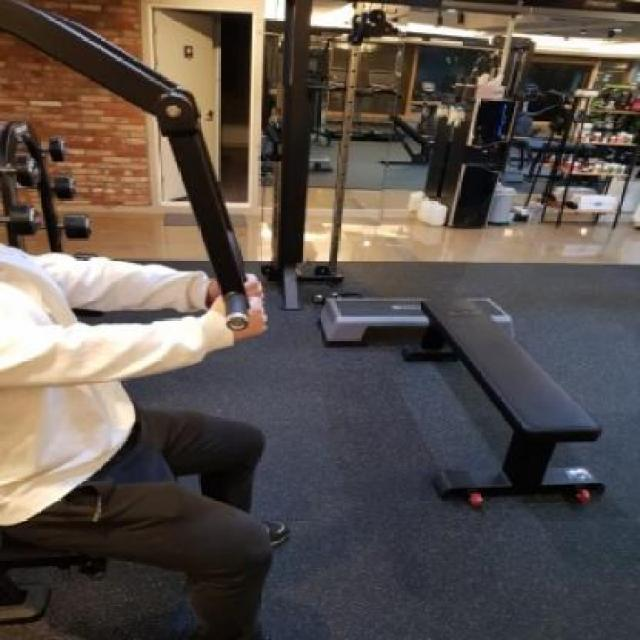chest fly machine: (0, 0, 314, 640)
